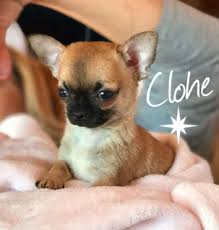chihuahua: (20, 25, 184, 199)
